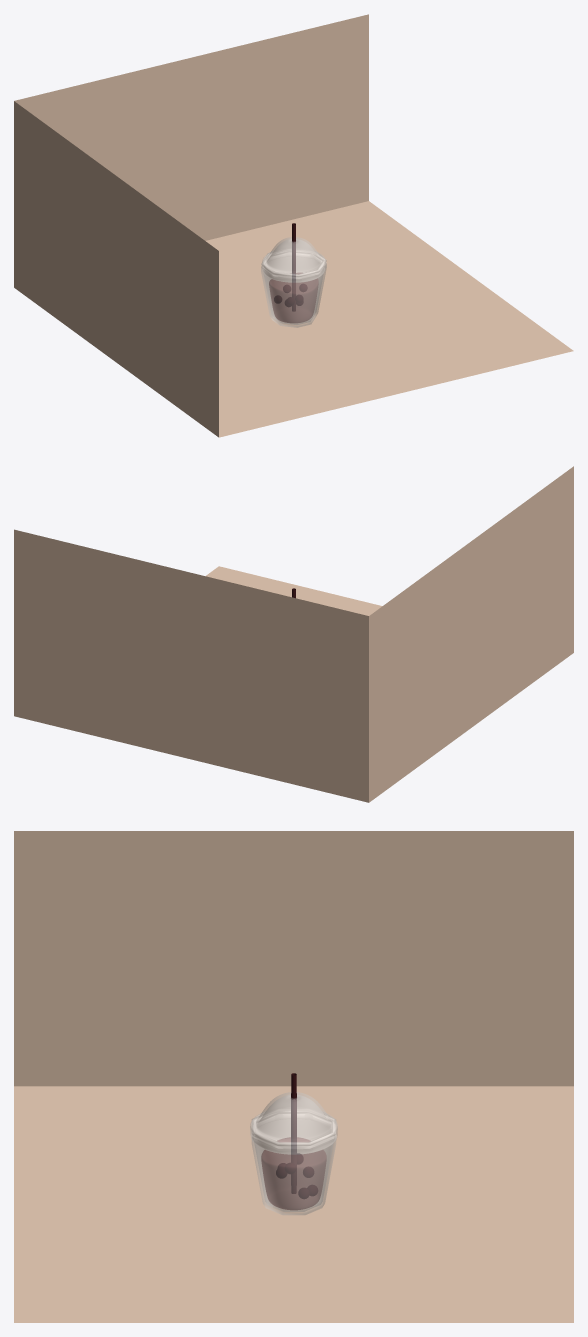
The model's file is boba.glb.
3 renders of one model, top to bottom at view 1: azimuth 30°, elevation 25°; view 2: azimuth 150°, elevation 25°; view 3: azimuth 270°, elevation 25°, orthographic. The views are drawn at different scales.
Visible parts, largest first — view 1: Plane_12, ge;as_0, Cube.001_2, Cube.002_3; view 2: Plane_12; view 3: Plane_12, ge;as_0, Cube.001_2, Cube.002_3, Cylinder_4.
Boxes of the visible parts, x1,y1,x2,y2 form: Plane_12: (14,14,573,437); ge;as_0: (261,251,326,327); Cube.001_2: (262,237,325,282); Cube.002_3: (269,273,318,322); Plane_12: (14,466,573,802); Plane_12: (14,831,573,1322); ge;as_0: (251,1111,336,1214); Cube.001_2: (250,1092,337,1154); Cube.002_3: (261,1137,326,1209); Cylinder_4: (291,1073,296,1193).
Bounding box in the file's own units: 13.62 × 6.87 × 13.62.
